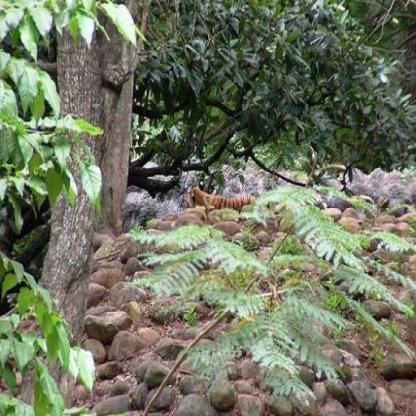Tiger: (190, 181, 256, 216)
